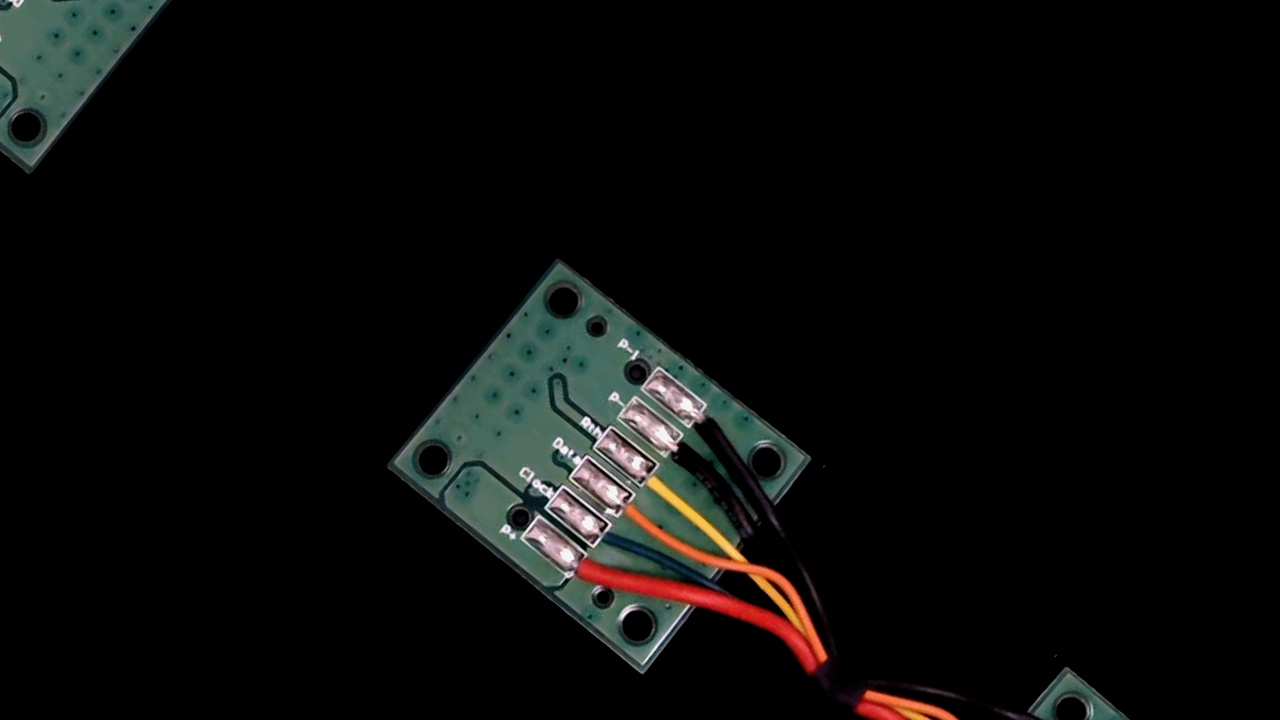Black: (651, 421, 729, 494)
Black1: (676, 392, 748, 460)
Green: (580, 510, 649, 574)
Orange: (603, 484, 680, 555)
Red: (554, 544, 630, 615)
Yellow: (626, 452, 704, 526)
